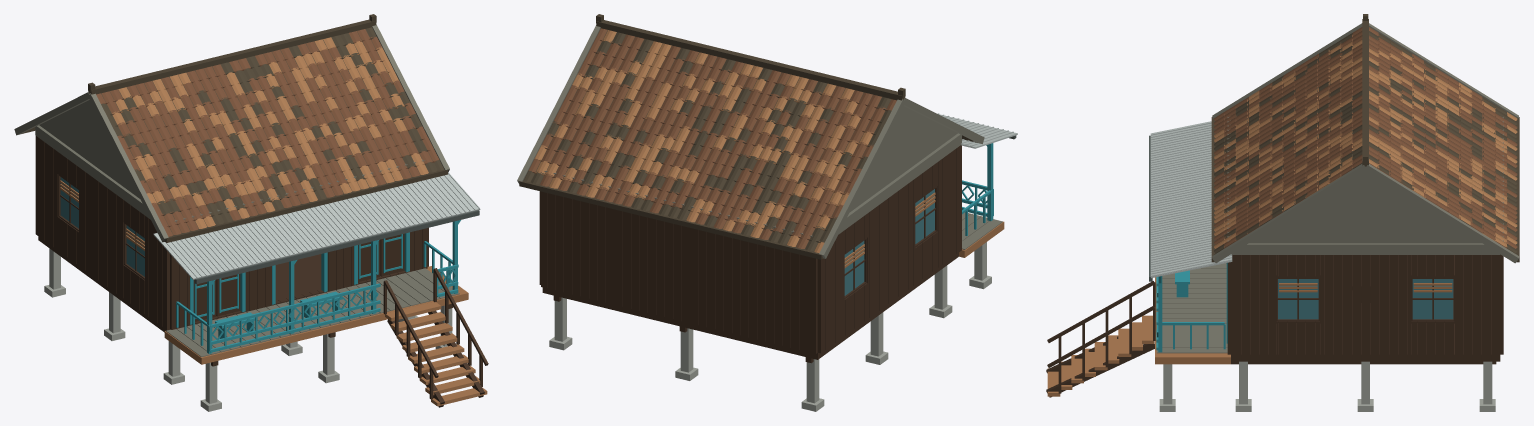
Rendered from traditional-cham-stilt.glb.
3 renders of one model, left to right at view 1: azimuth 30°, elevation 25°; view 2: azimuth 150°, elevation 25°; view 3: azimuth 270°, elevation 25°, orthographic. The views are drawn at different scales.
Visible parts, largest first — view 1: roof_tiles__old_tile, walls__timber_dark, roof_tiles__old_tile_light, porch_awning__awning_sheet, roof_tiles__old_tile_dark, veranda_boards__weathered_wood, painted_railings__paint_blue, roof__old_tile_dark, stairs__timber_light, gable_walls__weathered_wood, roof_trim__weathered_wood, roof_ridge__old_tile_dark (+16 smaller); view 2: walls__timber_dark, roof_tiles__old_tile, roof_tiles__old_tile_light, roof_tiles__old_tile_dark, roof__old_tile_dark, gable_walls__weathered_wood, roof_trim__weathered_wood, columns__concrete, roof_ridge__old_tile_dark, floors__timber_dark, roof_trim__old_tile_dark, walls__weathered_wood (+8 smaller); view 3: walls__timber_dark, roof_tiles__old_tile, roof_tiles__old_tile_light, roof_tiles__old_tile_dark, porch_awning__awning_sheet, gable_walls__weathered_wood, veranda_boards__weathered_wood, roof_trim__weathered_wood, floors__timber_dark, roof__old_tile_dark, walls__weathered_wood, glazing__glass (+12 smaller).
Part boxes in pixels (left/top/right/bottom): roof_tiles__old_tile: left=96, top=29, right=439, bottom=236; walls__timber_dark: left=35, top=136, right=428, bottom=330; roof_tiles__old_tile_light: left=112, top=37, right=428, bottom=228; porch_awning__awning_sheet: left=153, top=172, right=480, bottom=279; roof_tiles__old_tile_dark: left=101, top=27, right=444, bottom=224; veranda_boards__weathered_wood: left=166, top=268, right=459, bottom=357; painted_railings__paint_blue: left=176, top=241, right=458, bottom=352; roof__old_tile_dark: left=101, top=29, right=437, bottom=234; stairs__timber_light: left=385, top=301, right=487, bottom=406; gable_walls__weathered_wood: left=39, top=100, right=139, bottom=198; roof_trim__weathered_wood: left=14, top=24, right=449, bottom=242; roof_ridge__old_tile_dark: left=88, top=14, right=376, bottom=94; walls__timber_dark: left=539, top=145, right=961, bottom=353; roof_tiles__old_tile: left=528, top=28, right=896, bottom=248; roof_tiles__old_tile_light: left=534, top=30, right=873, bottom=252; roof_tiles__old_tile_dark: left=523, top=32, right=891, bottom=251; roof__old_tile_dark: left=530, top=30, right=891, bottom=250; gable_walls__weathered_wood: left=849, top=106, right=957, bottom=212; roof_trim__weathered_wood: left=517, top=25, right=984, bottom=258; columns__concrete: left=554, top=242, right=986, bottom=403; roof_ridge__old_tile_dark: left=596, top=14, right=905, bottom=100; floors__timber_dark: left=542, top=253, right=958, bottom=359; roof_trim__old_tile_dark: left=519, top=135, right=976, bottom=259; walls__weathered_wood: left=544, top=133, right=961, bottom=237; walls__timber_dark: left=1227, top=254, right=1503, bottom=356; roof_tiles__old_tile: left=1214, top=27, right=1517, bottom=248; roof_tiles__old_tile_light: left=1214, top=40, right=1517, bottom=248; roof_tiles__old_tile_dark: left=1214, top=31, right=1517, bottom=254; porch_awning__awning_sheet: left=1150, top=121, right=1232, bottom=278; gable_walls__weathered_wood: left=1249, top=171, right=1481, bottom=243; veranda_boards__weathered_wood: left=1156, top=263, right=1227, bottom=353; roof_trim__weathered_wood: left=1212, top=23, right=1518, bottom=263; floors__timber_dark: left=1231, top=255, right=1500, bottom=361; roof__old_tile_dark: left=1216, top=31, right=1514, bottom=252; walls__weathered_wood: left=1227, top=117, right=1503, bottom=254; glazing__glass: left=1278, top=279, right=1453, bottom=319.
Size of the model in its own units: 8.07 by 6.93 by 11.24.
